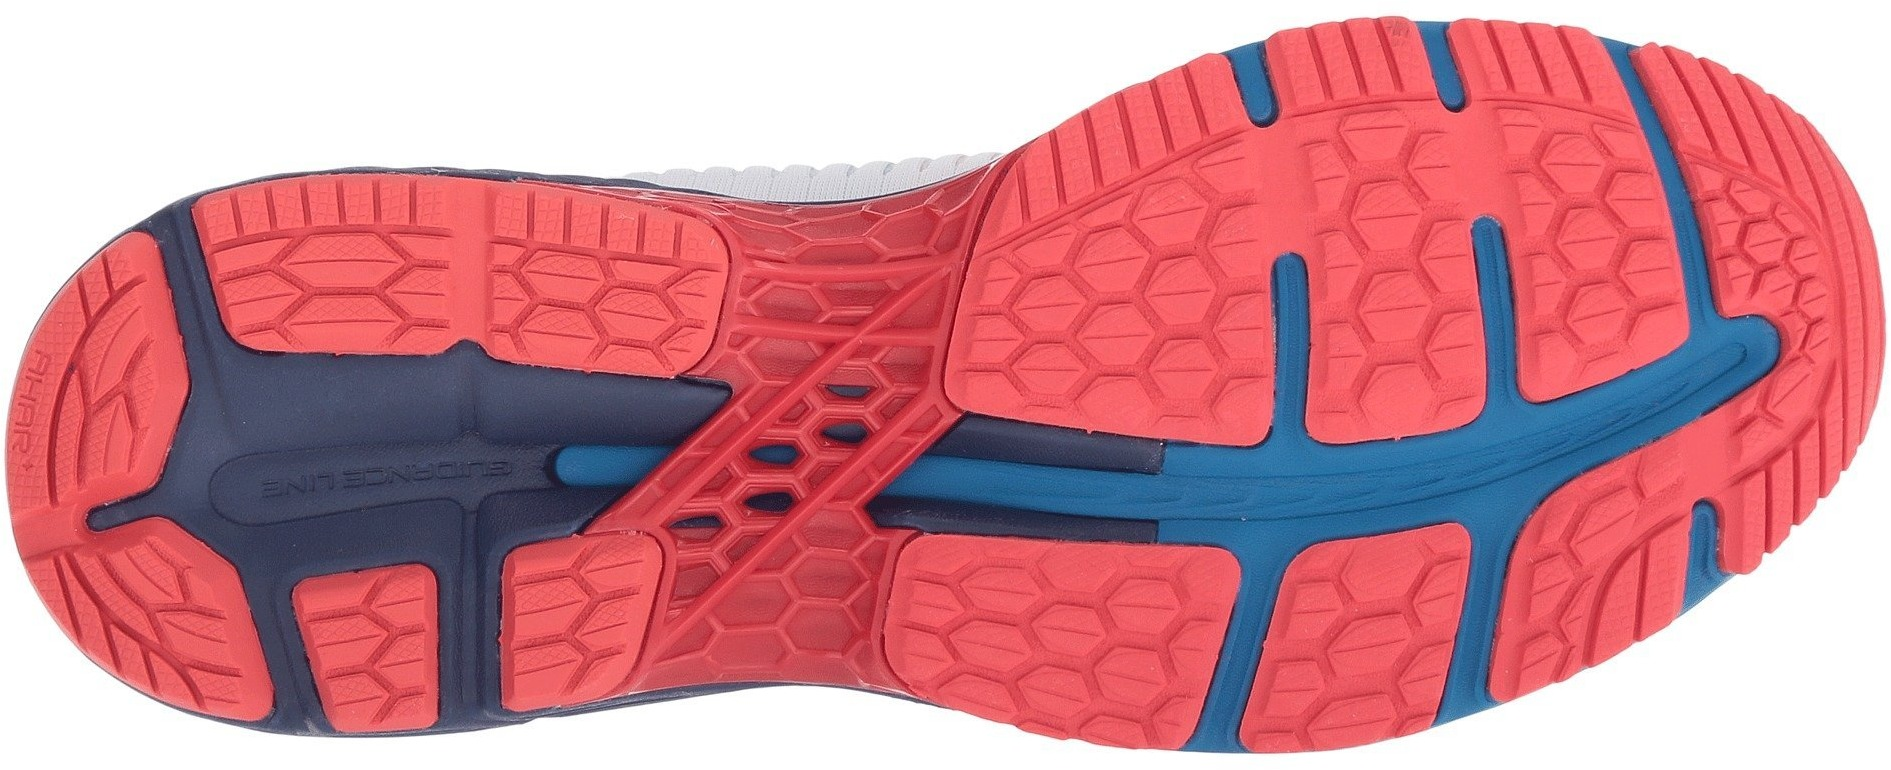polygon: (939, 107, 1690, 444)
